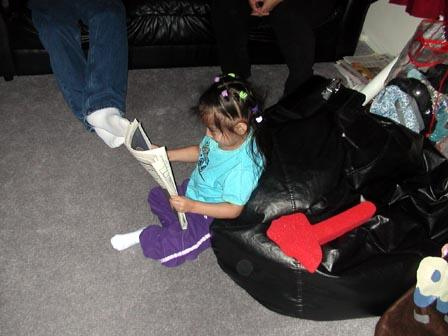person: (113, 71, 273, 268)
